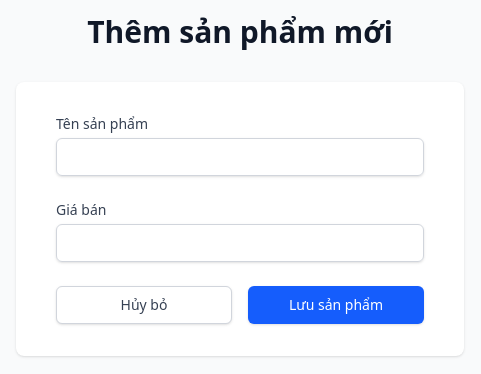
Test: ProductForm component tests › shows loading state and disables submit during create
Step 1. Type "New Name" into the field with test id "name-input" → (240, 157), box [56,138,424,176]
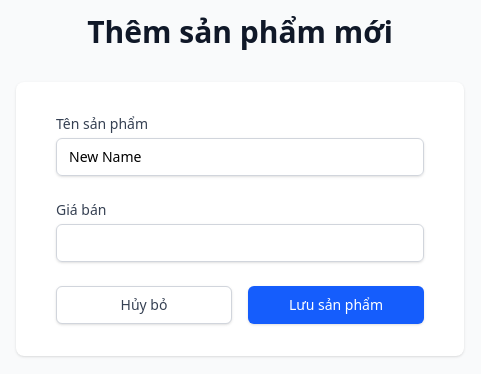
Step 2. Type "123" into the number field with test id "price-input" → (240, 243), box [56,224,424,262]
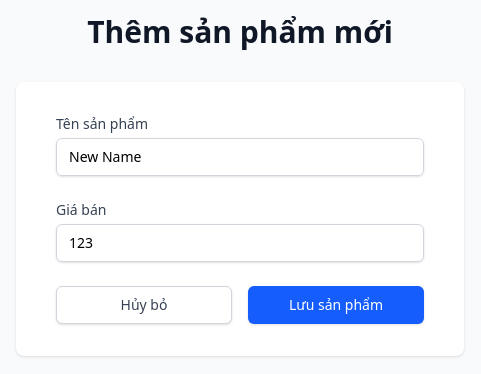
Step 3. Click the button with test id "submit-button" → (336, 305), box [248,286,424,324]
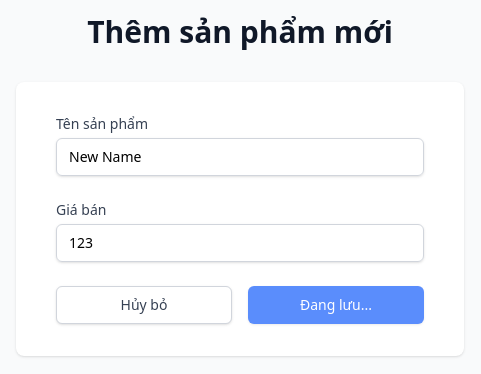
Check: the button with test id "submit-button" is disabled, box [248,286,424,324]
Check: the button with test id "submit-button" reads "Đang lưu...", box [248,286,424,324]
